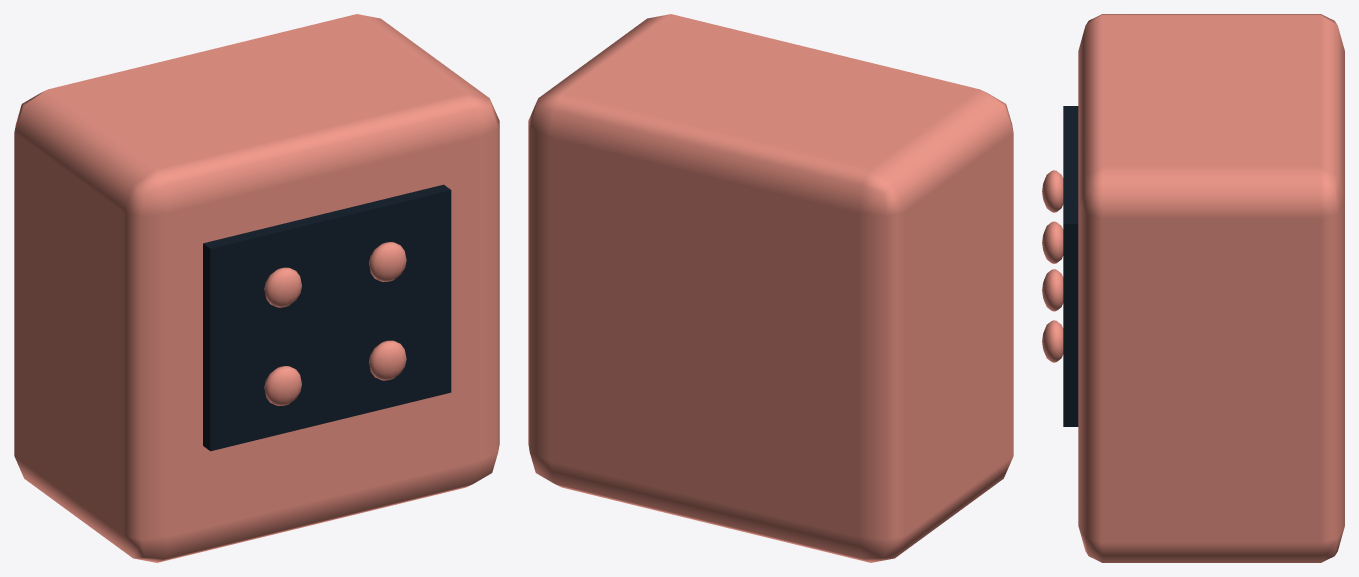
File: item-game.glb
3 renders of one model, left to right at view 1: azimuth 30°, elevation 25°; view 2: azimuth 150°, elevation 25°; view 3: azimuth 270°, elevation 25°, orthographic.
Parts seen in each view (by area): view 1: package, label, pip (×4); view 2: package; view 3: package, label, pip (×4).
Boxes of the visible parts, left/top/right/bottom form: package: left=14, top=14, right=499, bottom=562; label: left=203, top=184, right=451, bottom=451; pip (×4): left=264, top=242, right=406, bottom=405; package: left=528, top=14, right=1013, bottom=562; package: left=1078, top=14, right=1344, bottom=562; label: left=1063, top=106, right=1078, bottom=426; pip (×4): left=1042, top=170, right=1063, bottom=362.
Bounding box in the file's own units: 0.72 × 0.72 × 0.5.
